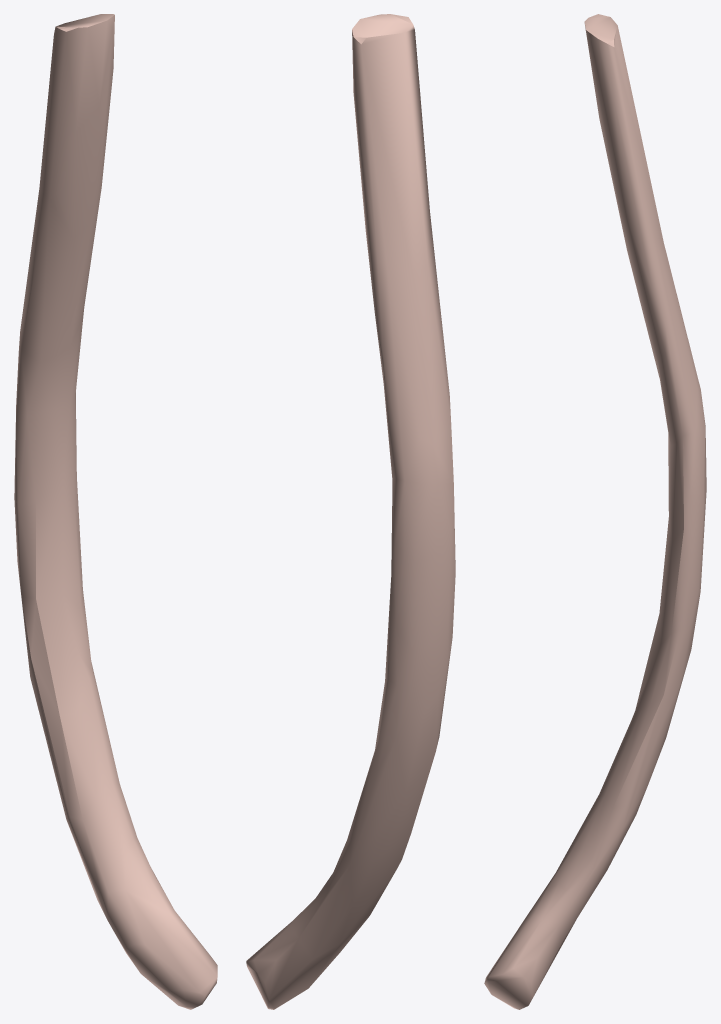
File: esophagus.glb
3 renders of one model, left to right at view 1: azimuth 30°, elevation 25°; view 2: azimuth 210°, elevation 25°; view 3: azimuth 270°, elevation 25°, orthographic. The views are drawn at different scales.
Visible parts, largest first — view 1: FJ2563_Esophagus; view 2: FJ2563_Esophagus; view 3: FJ2563_Esophagus.
Part boxes in pixels (left/top/right/bottom): FJ2563_Esophagus: left=14, top=14, right=217, bottom=1009; FJ2563_Esophagus: left=246, top=14, right=455, bottom=1009; FJ2563_Esophagus: left=484, top=14, right=706, bottom=1009.
Size of the model in its own units: 0.0322 by 0.2744 by 0.0579.
